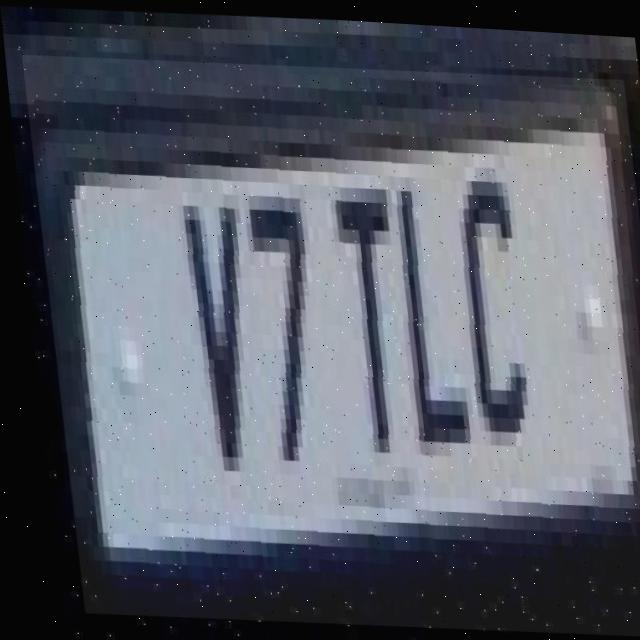LicensePlate: (19, 44, 640, 640)
